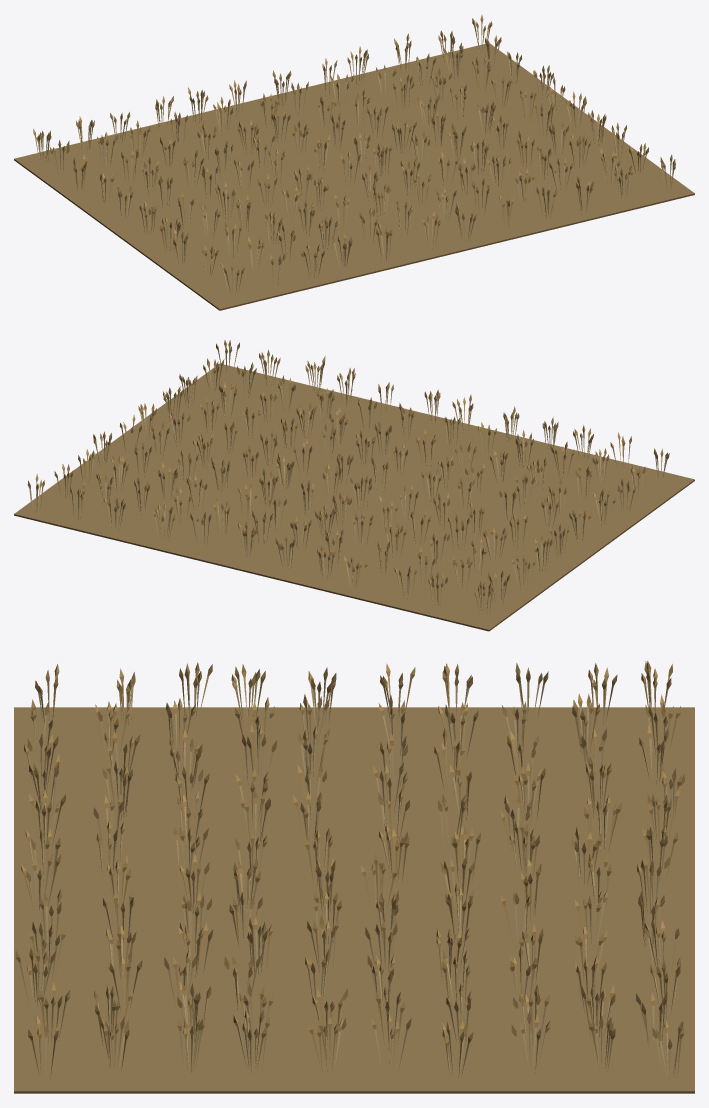
The model's file is FMS_Mach_Demo_WheatField.fbx.
3 views of the same model, one above another, from view 1: azimuth 30°, elevation 25°; view 2: azimuth 150°, elevation 25°; view 3: azimuth 270°, elevation 25° (orthographic). The views are drawn at different scales.
Parts seen in each view (by area): view 1: WheatField; view 2: WheatField; view 3: WheatField.
Boxes of the visible parts, x1=… form: WheatField: x1=14, y1=15, x2=694, y2=310; WheatField: x1=14, y1=340, x2=694, y2=631; WheatField: x1=14, y1=661, x2=694, y2=1093.
Size of the model in its own units: 16 by 1.17 by 12.
